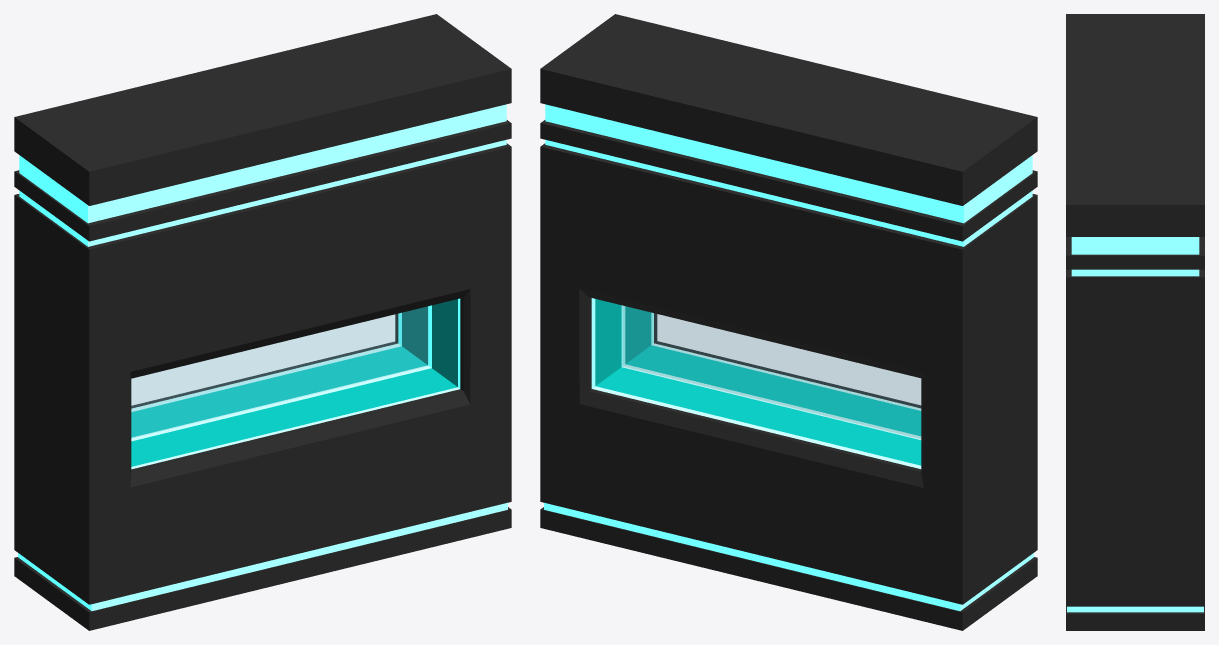
The model's file is Window 2L.fbx.
3 renders of one model, left to right at view 1: azimuth 30°, elevation 25°; view 2: azimuth 150°, elevation 25°; view 3: azimuth 270°, elevation 25°, orthographic. The views are drawn at different scales.
Parts seen in each view (by area): view 1: Window. 2L; view 2: Window. 2L; view 3: Window. 2L.
Boxes of the visible parts, x1,y1,x2,y2 form: Window. 2L: [14, 14, 511, 630]; Window. 2L: [540, 14, 1037, 630]; Window. 2L: [1066, 14, 1204, 630].
Bounding box in the file's own units: 630 × 193 × 654.
